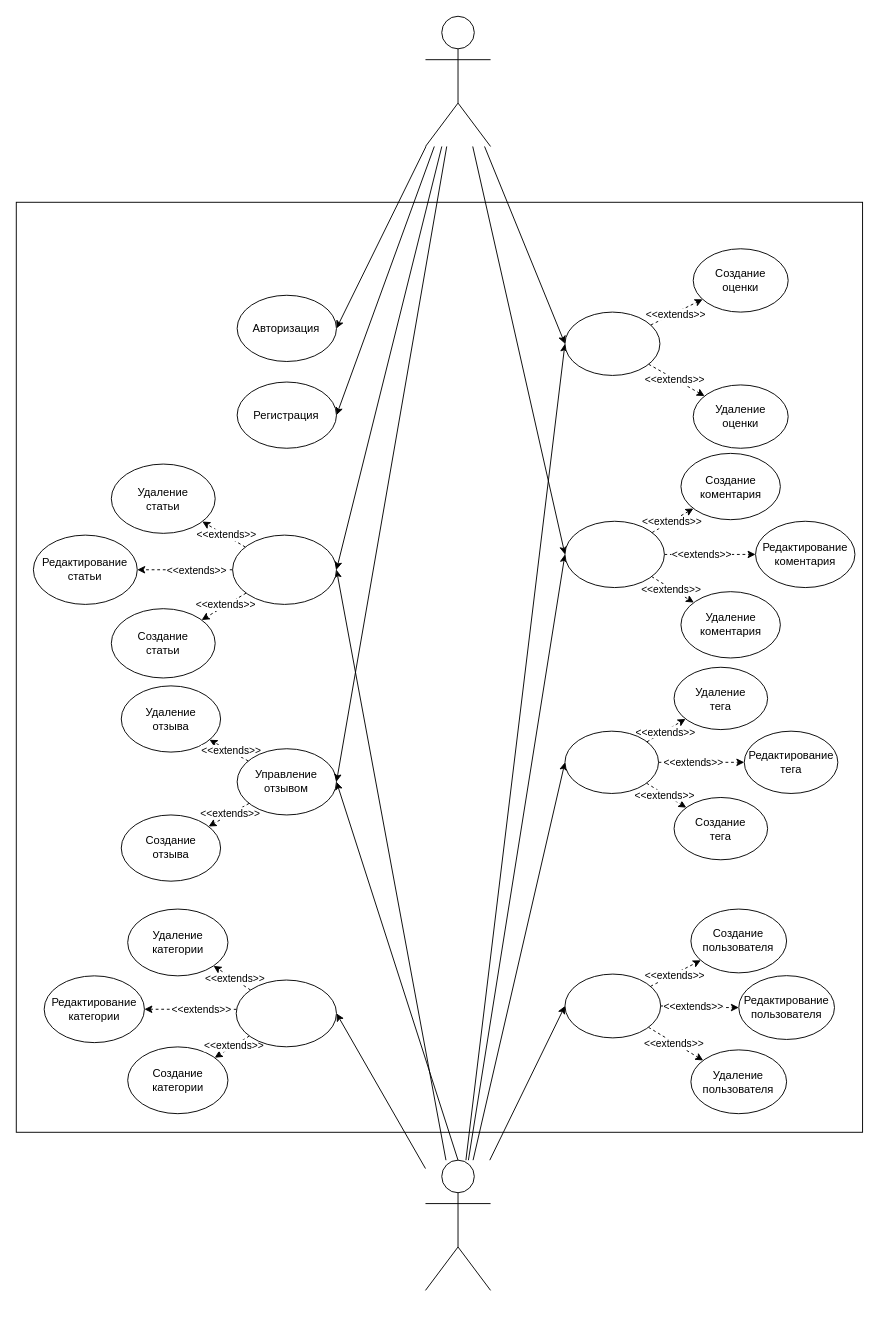
This 879x1334 diagram has some shape labels left out. Each missing label, with the centre of its shape:
"Администратор" goes at pixel 458 1224.
"Пользователь" goes at pixel 458 80.
"Управление категорией" goes at pixel 285 1013.
"Управление коментарием" goes at pixel 614 554.
"Управление оценкой" goes at pixel 612 343.
"Управление пользователем" goes at pixel 612 1005.
"Управление статьей" goes at pixel 284 569.
"Управление тегами" goes at pixel 611 761.
